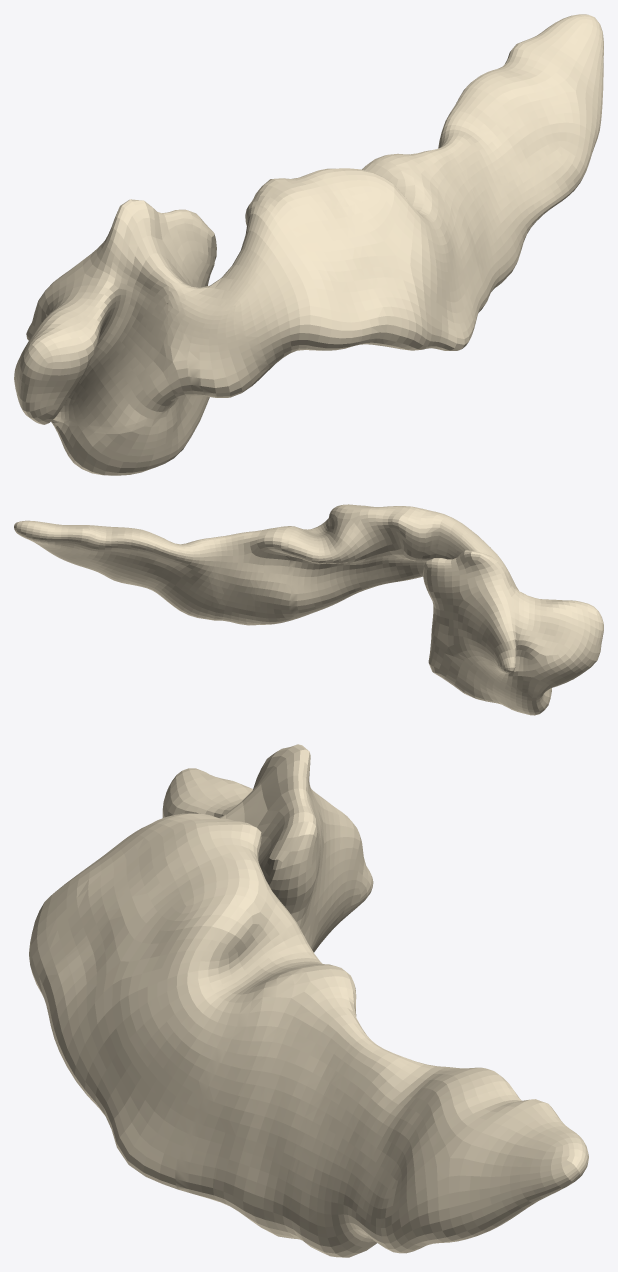
File: pancreas.glb
3 renders of one model, top to bottom at view 1: azimuth 30°, elevation 25°; view 2: azimuth 150°, elevation 25°; view 3: azimuth 270°, elevation 25°, orthographic. The views are drawn at different scales.
Parts seen in each view (by area): view 1: VH_F_body_of_pancreas, VH_F_tail_of_pancreas, VH_F_head_of_pancreas, VH_F_neck_of_pancreas, VH_F_ucinate_process1; view 2: VH_F_tail_of_pancreas, VH_F_head_of_pancreas, VH_F_body_of_pancreas, VH_F_ucinate_process1; view 3: VH_F_tail_of_pancreas, VH_F_body_of_pancreas, VH_F_head_of_pancreas.
Boxes of the visible parts, x1,y1,x2,y2 form: VH_F_body_of_pancreas: [225, 162, 474, 365]; VH_F_tail_of_pancreas: [370, 14, 603, 328]; VH_F_head_of_pancreas: [14, 199, 216, 431]; VH_F_neck_of_pancreas: [179, 273, 273, 397]; VH_F_ucinate_process1: [51, 395, 209, 475]; VH_F_tail_of_pancreas: [14, 520, 294, 625]; VH_F_head_of_pancreas: [423, 550, 603, 694]; VH_F_body_of_pancreas: [287, 504, 498, 619]; VH_F_ucinate_process1: [428, 639, 551, 715]; VH_F_tail_of_pancreas: [176, 967, 588, 1257]; VH_F_body_of_pancreas: [29, 813, 341, 1190]; VH_F_head_of_pancreas: [162, 744, 373, 952].
Size of the model in its own units: 0.172 by 0.0565 by 0.0844.
